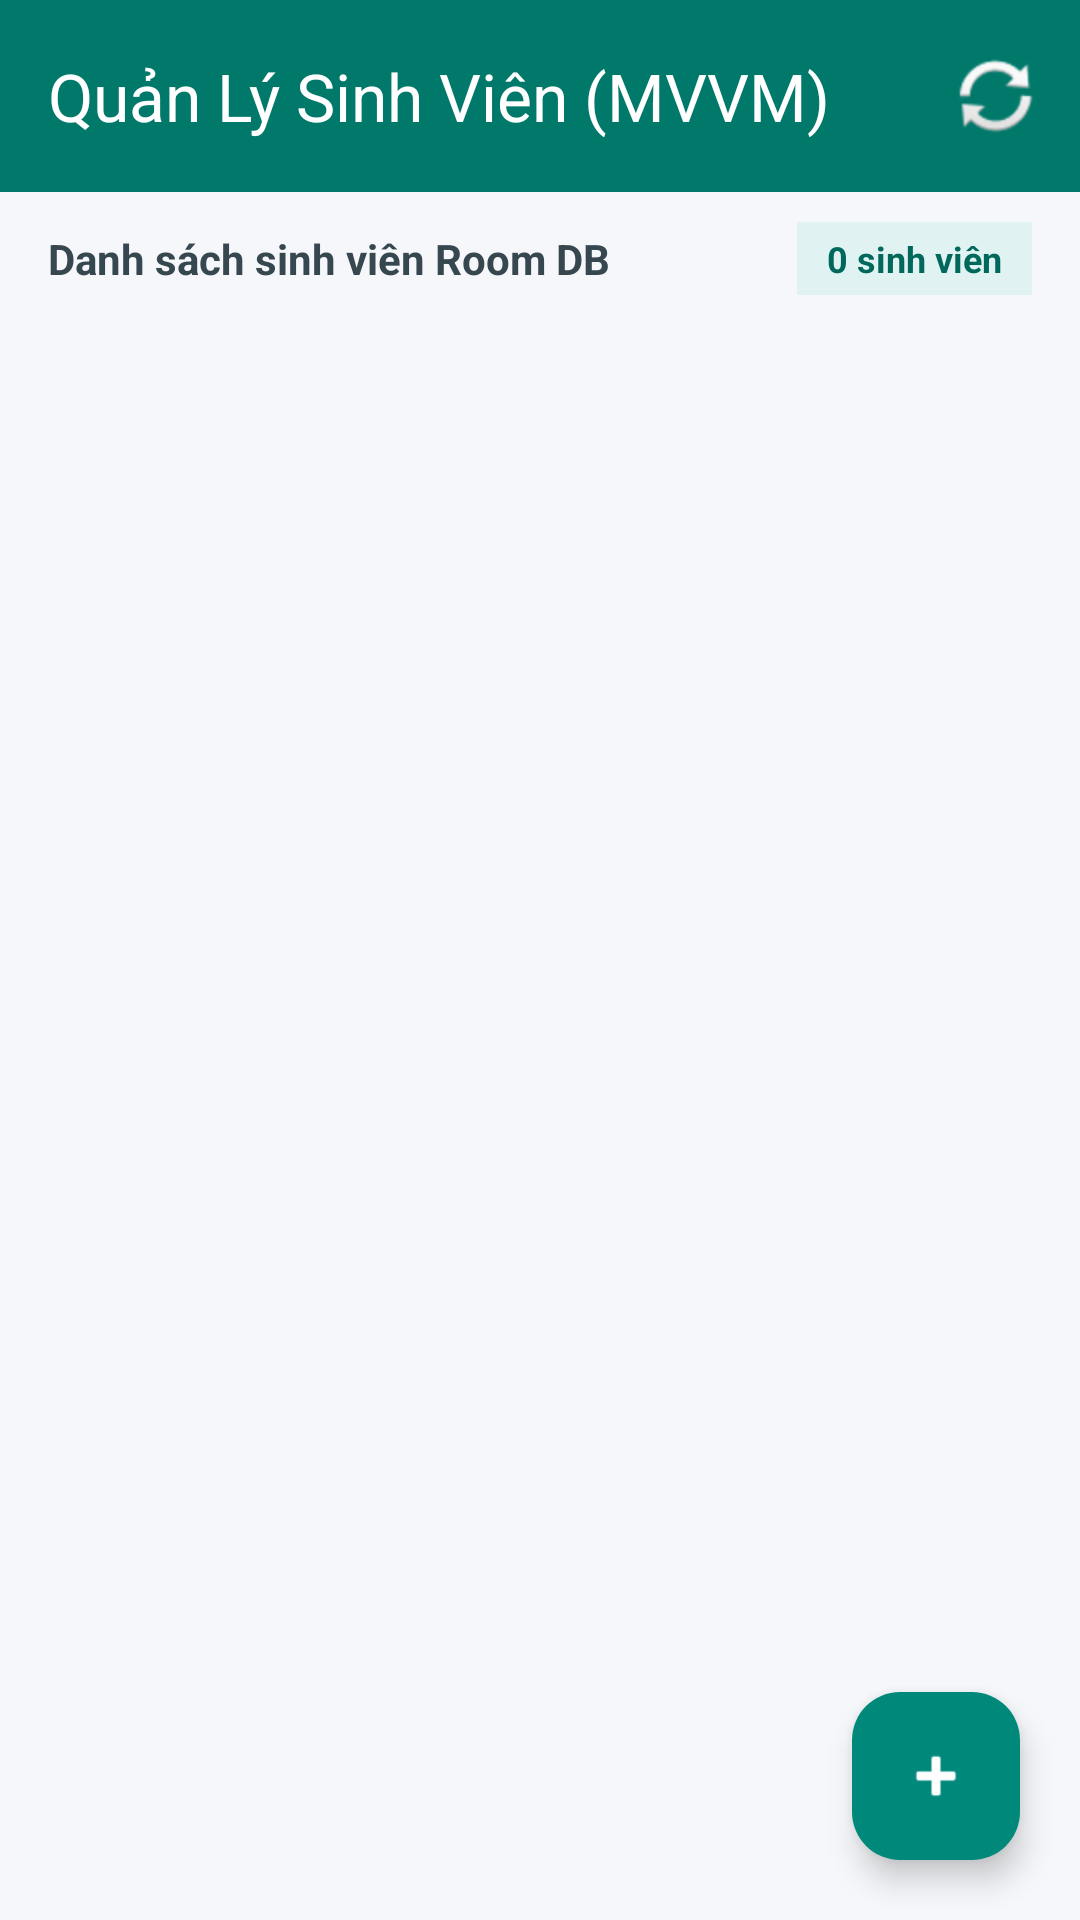

Where icons sit on this 1080*1920 app screen, as {"left": x1, "top": y1, "right": x2, "bottom": y2}:
Thêm sinh viên: {"left": 852, "top": 1692, "right": 1020, "bottom": 1860}
